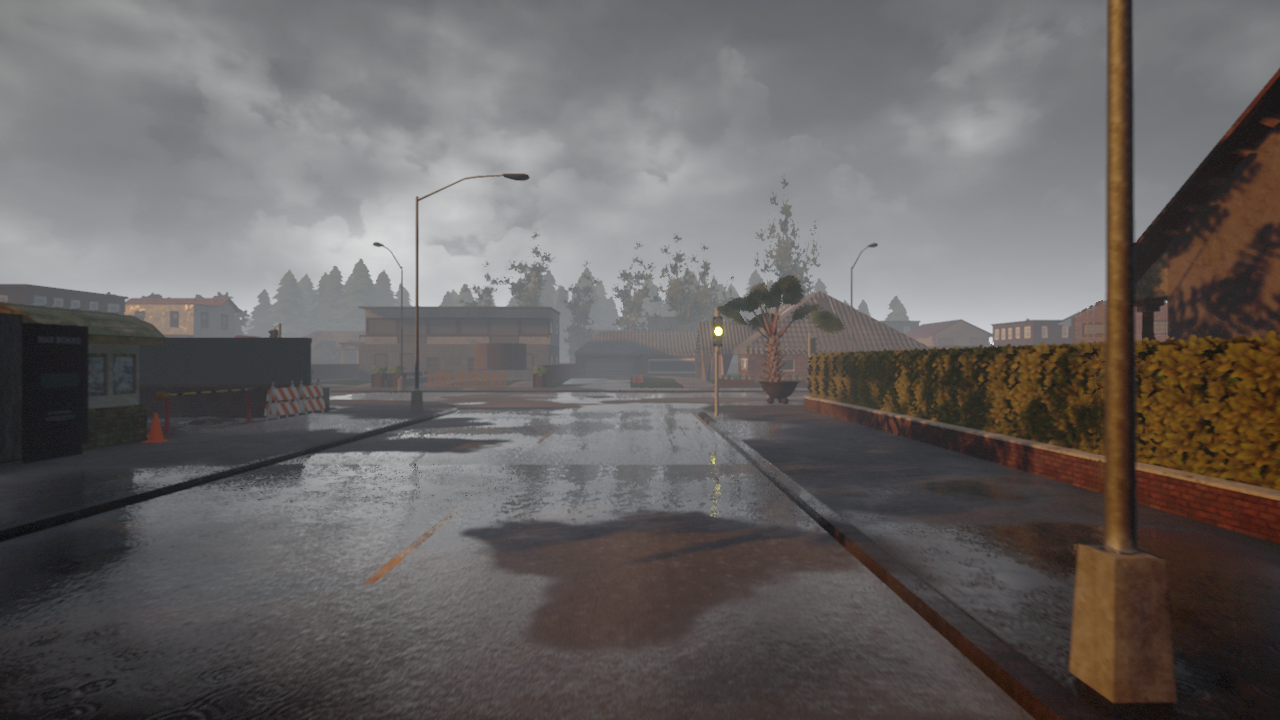yellow: (712, 315, 722, 347)
